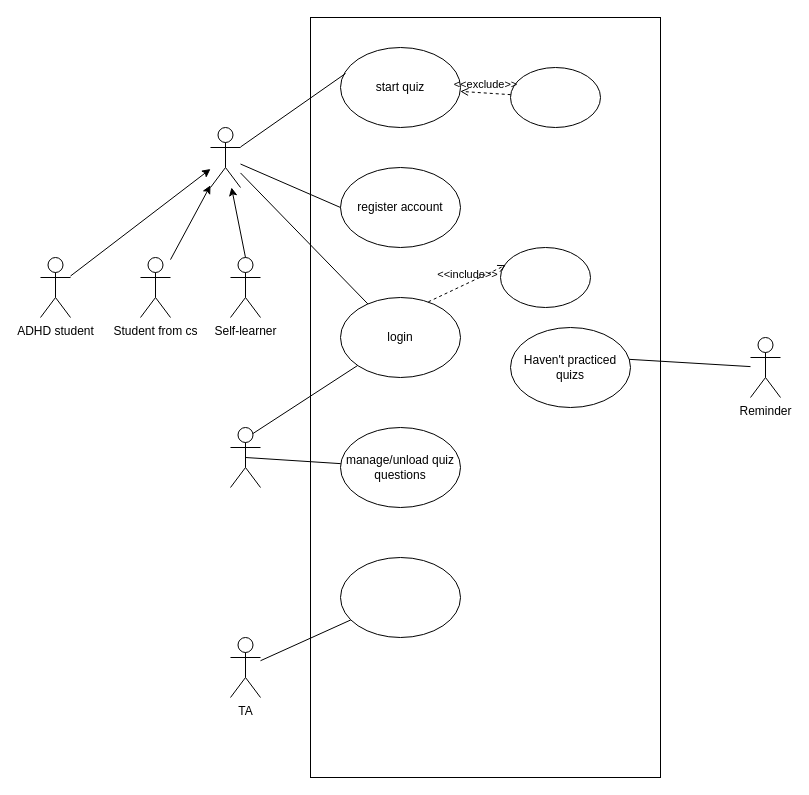
Image size: 809x795. Some labels were removed from this diagram. The centre of each missing label's shape, as x and y in pixels:
"Lecturer" goes at point (245, 457).
"set up time" goes at point (555, 97).
"Student" goes at point (225, 157).
"verified password" goes at point (545, 277).
"view performance" goes at point (400, 597).
